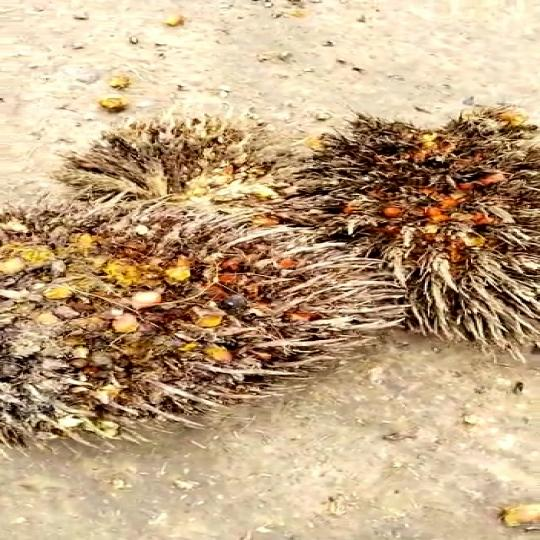terlalu masak: (0, 215, 392, 436), (311, 105, 540, 330), (60, 114, 299, 212)
